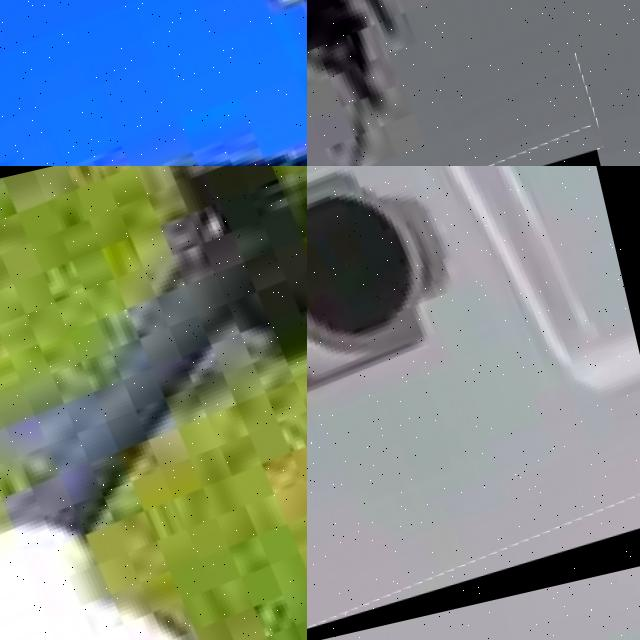0: (0, 166, 307, 640), (0, 0, 307, 166), (307, 0, 602, 166)
drone: (307, 166, 640, 640)
